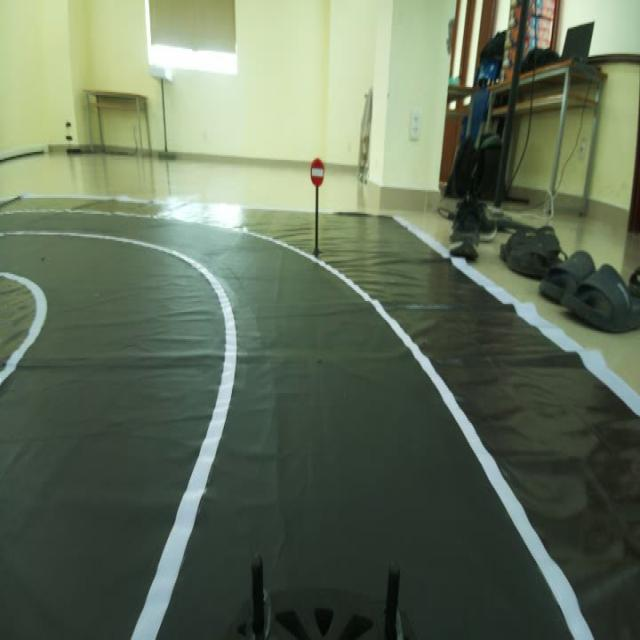no_entry: (301, 145, 335, 192)
